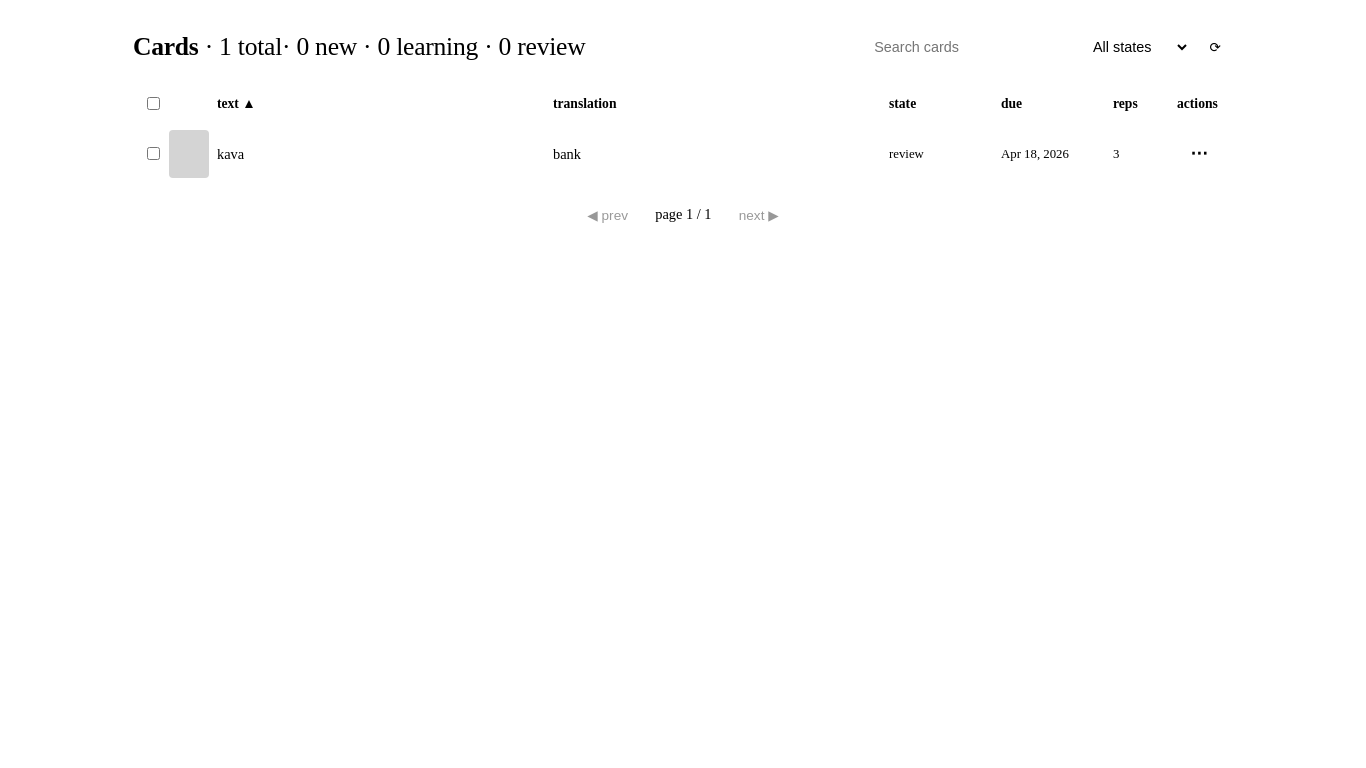
Scenario: cards/+page.svelte › shows error when resetSRSItem fails
The image size is (1366, 768).
Check: the text "kava" is shown, box [217, 146, 244, 162]
Step 1. Click the button "⋯" → (1199, 154), box [1177, 140, 1221, 168]
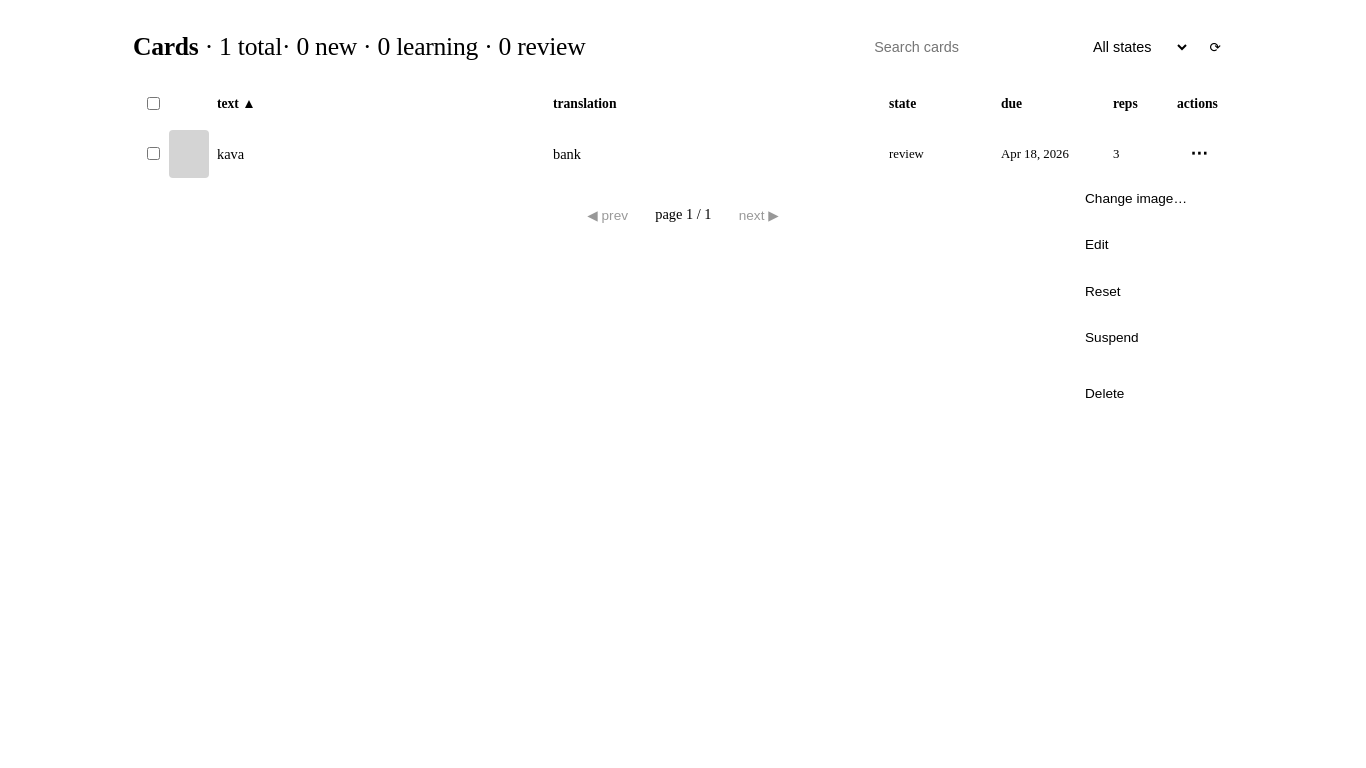
Step 2. Click the menu item "Reset" → (1145, 291), box [1073, 269, 1217, 313]
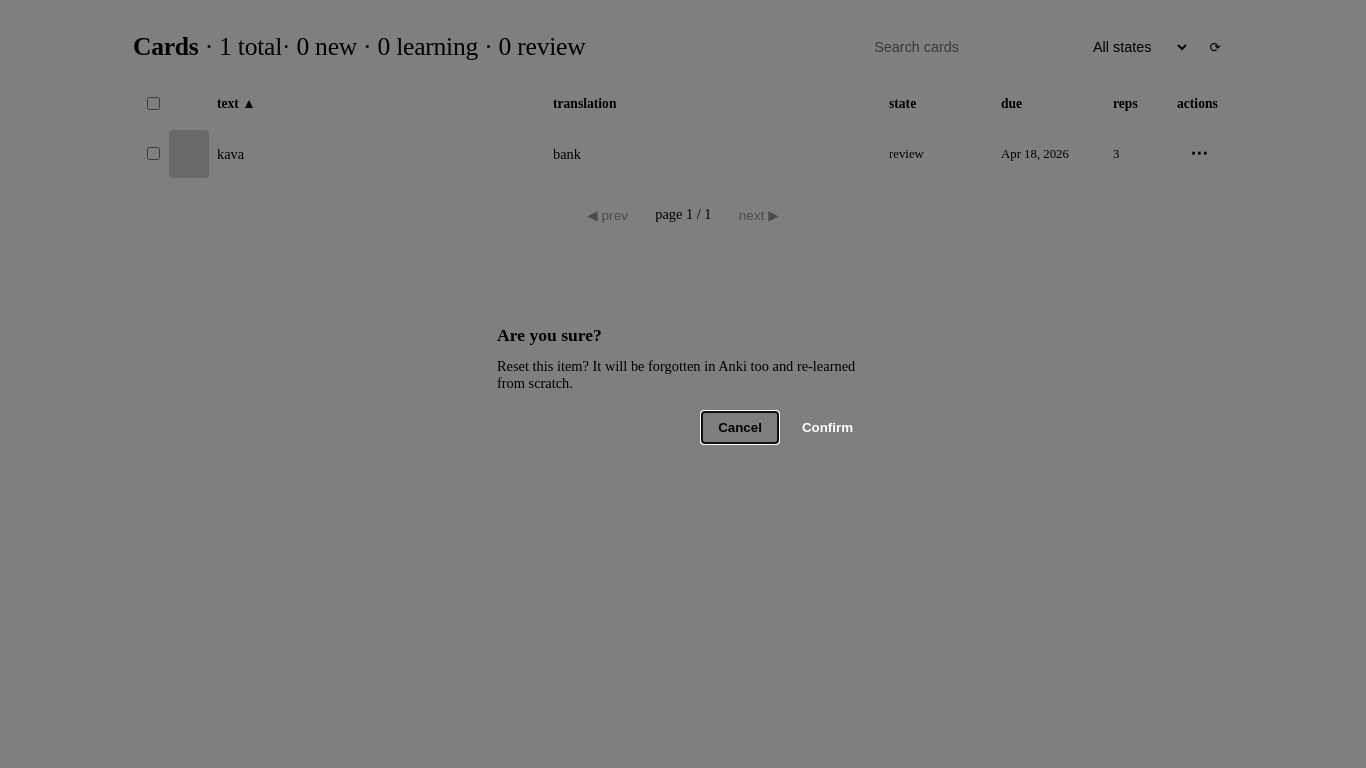
Step 3. Click the button "Confirm" → (827, 428), box [786, 412, 869, 443]
Wait 100 ms
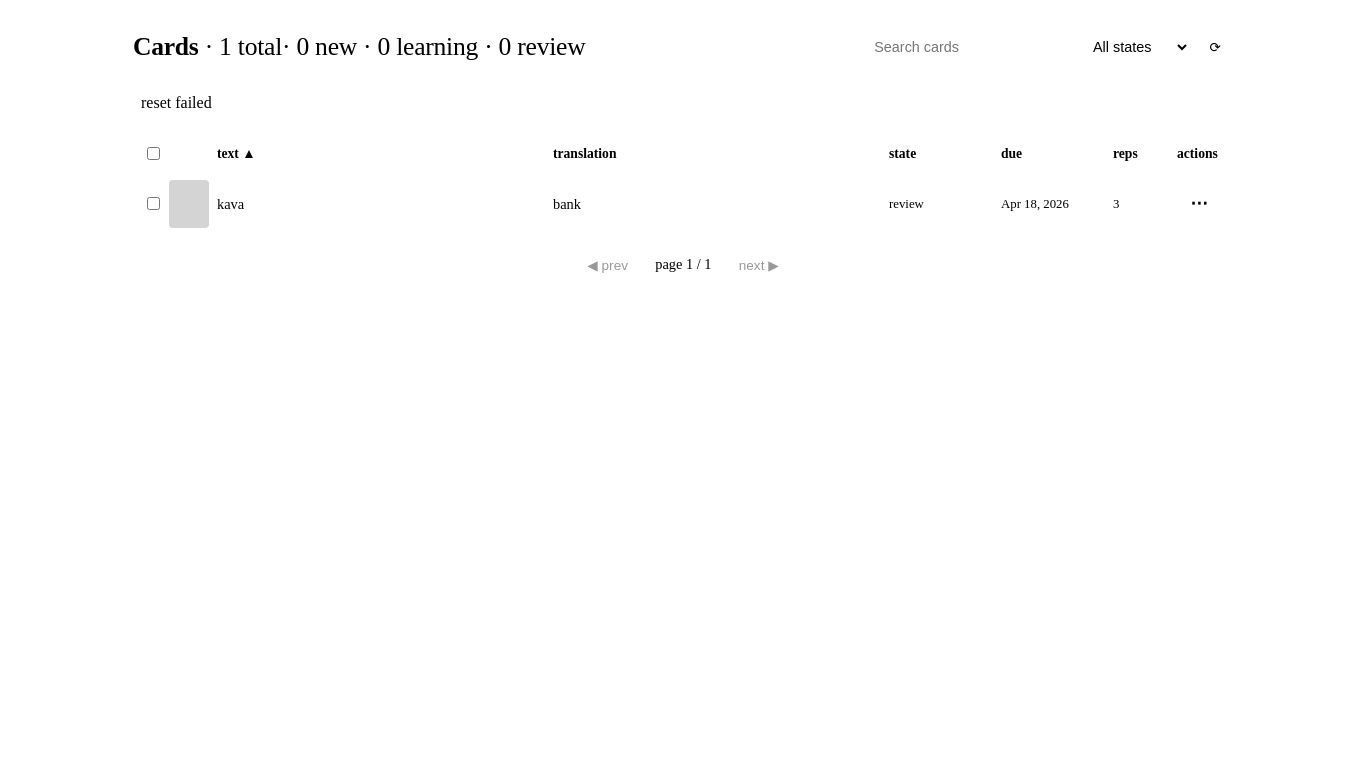
Check: the text "reset failed" is shown, box [141, 94, 212, 111]
